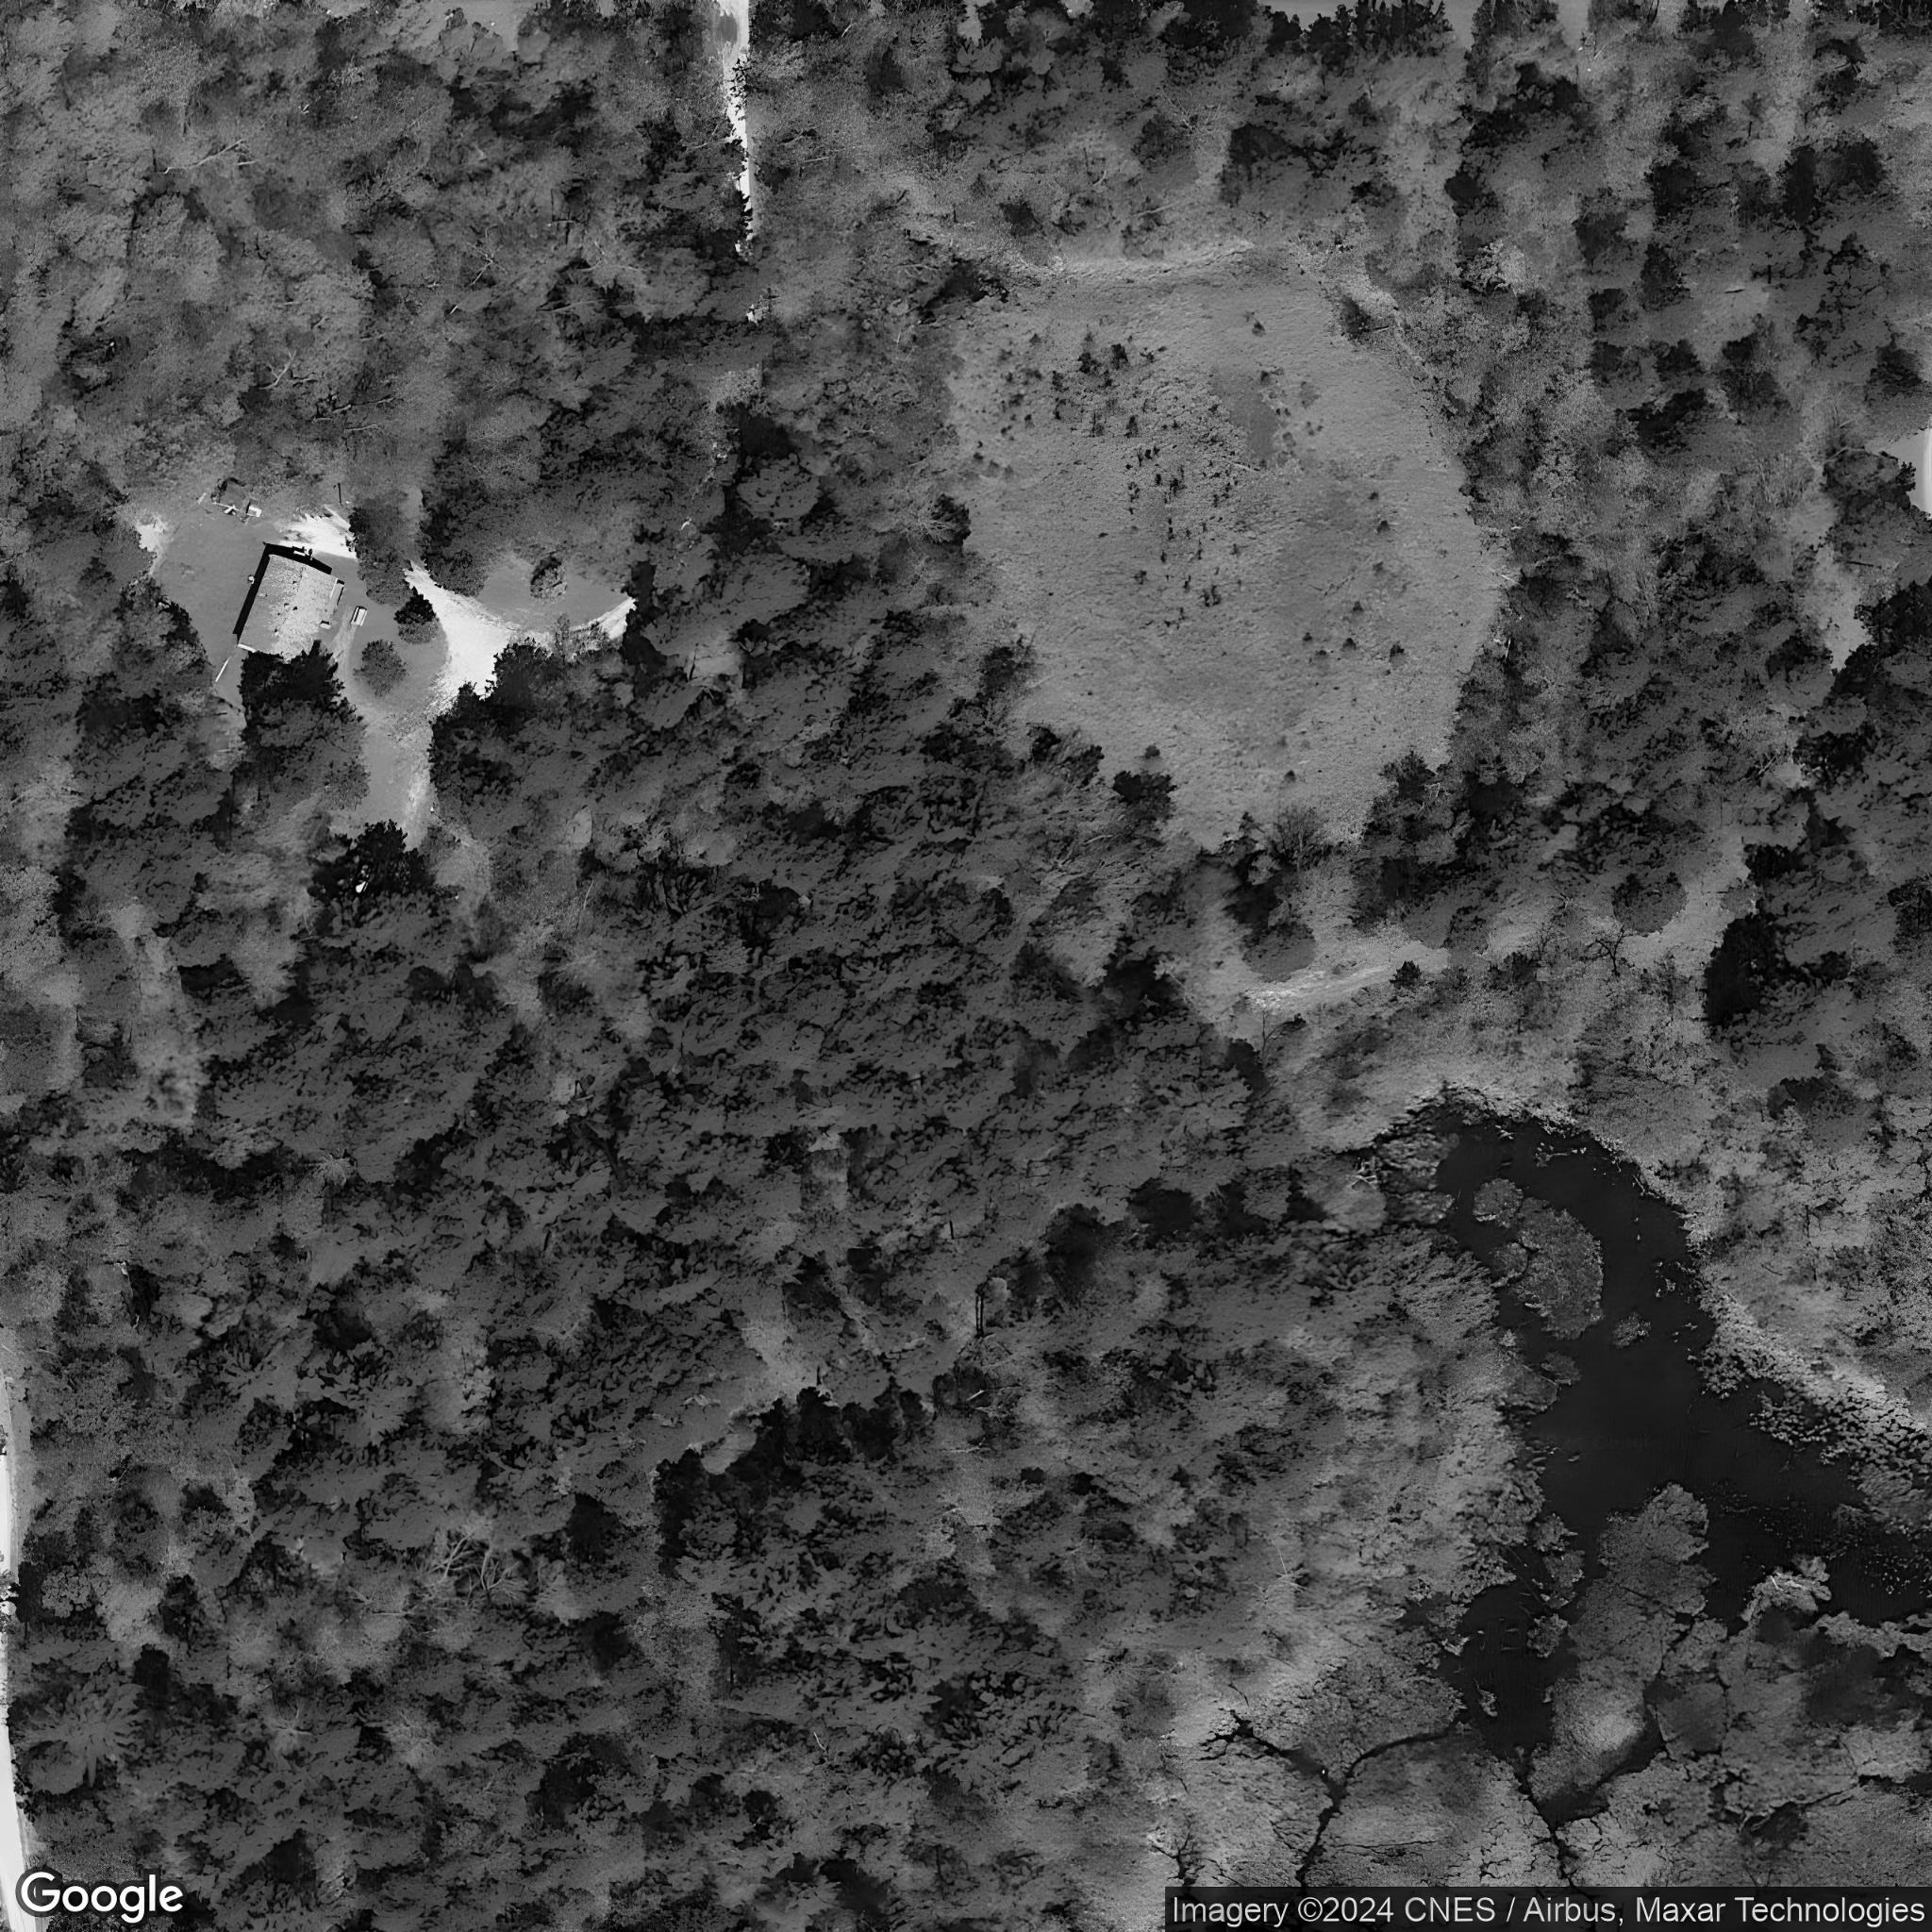House: (235, 550, 343, 669)
